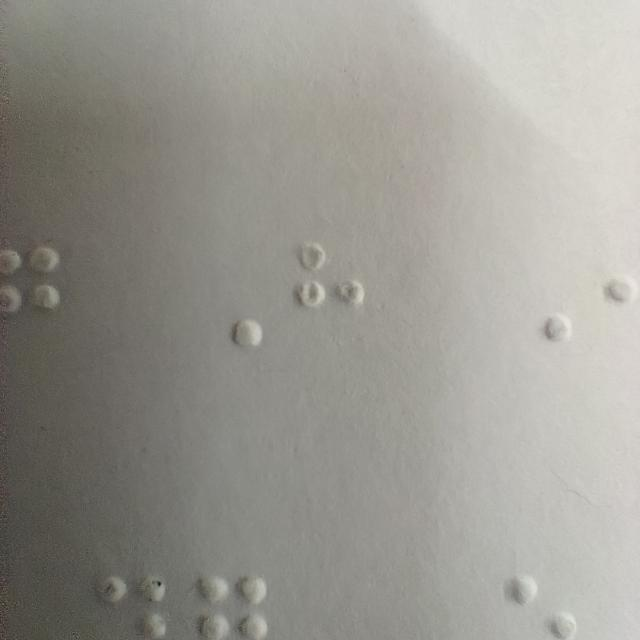H: (296, 245, 366, 347)
capital: (197, 246, 267, 348)
